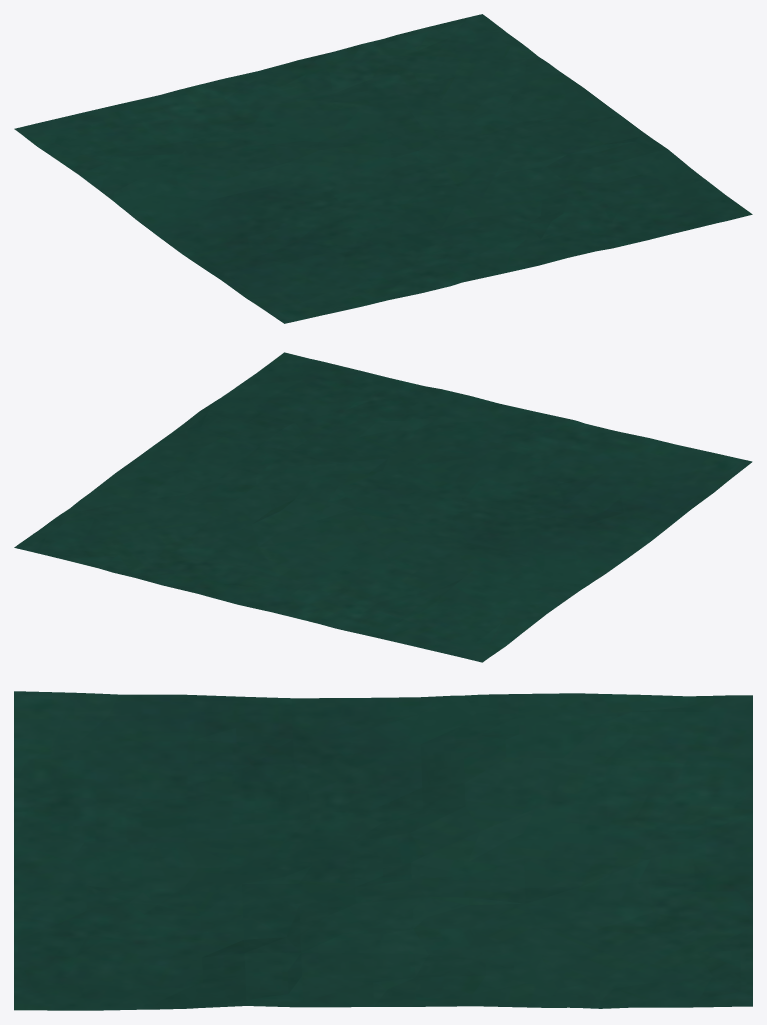
The picture shows the model from 3 angles, top to bottom: view 1: azimuth 30°, elevation 25°; view 2: azimuth 150°, elevation 25°; view 3: azimuth 270°, elevation 25°; orthographic projection. The views are drawn at different scales.
Size of the model in its own units: 52.22 by 0.6198 by 52.22.
3 materials, 3 textured.
